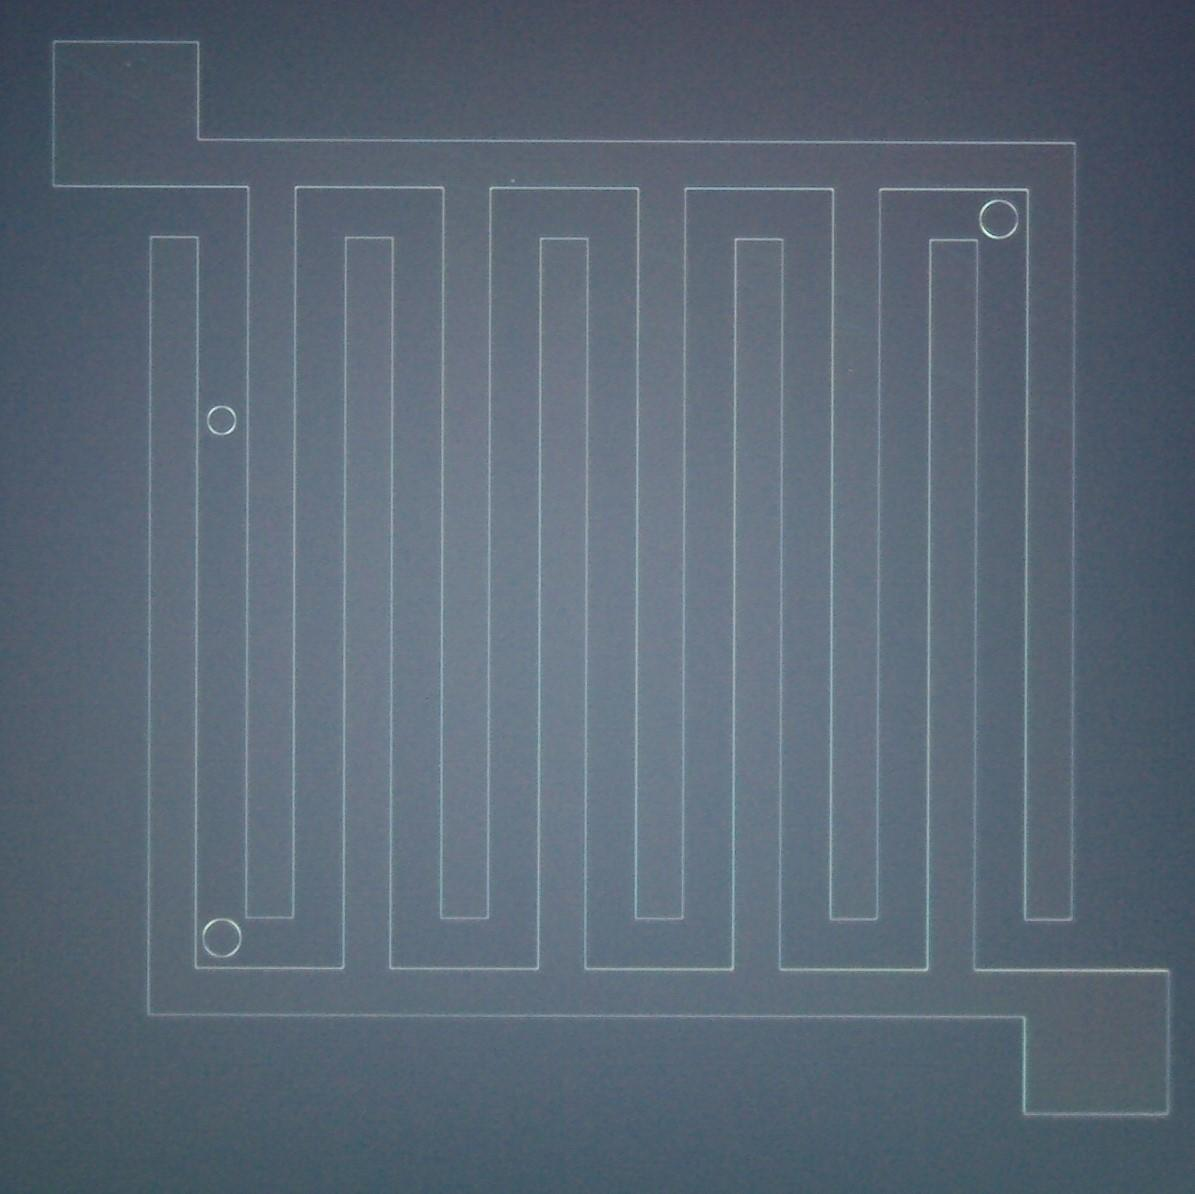circle: (201, 916, 243, 960), (980, 197, 1020, 241), (206, 405, 239, 437)
s_point: (119, 55, 143, 75), (505, 173, 522, 188)
